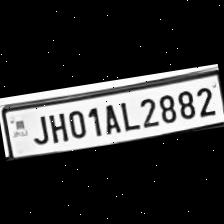0: (63, 104, 89, 139)
1: (82, 102, 104, 138)
2: (133, 92, 159, 129), (192, 81, 216, 118)
8: (154, 90, 178, 126), (172, 86, 196, 122)
A: (97, 98, 122, 135)
H: (44, 108, 69, 144)
J: (25, 110, 50, 146)
L: (114, 96, 139, 132)
